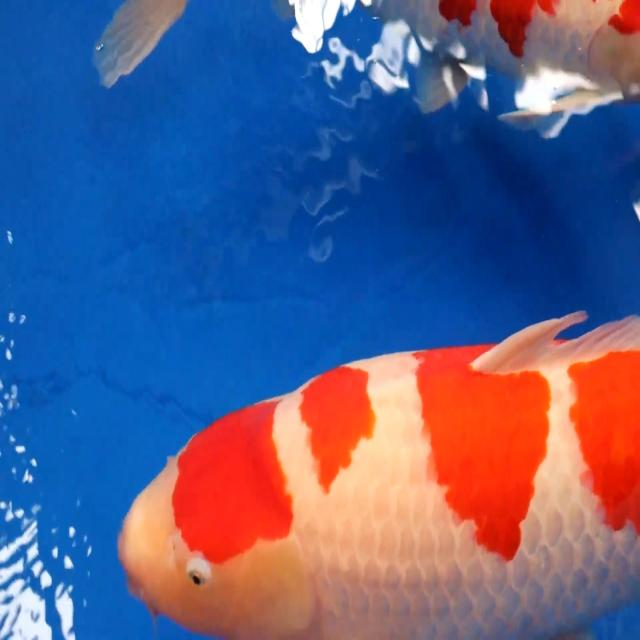Kohaku: (117, 308, 639, 638), (90, 0, 640, 110)
